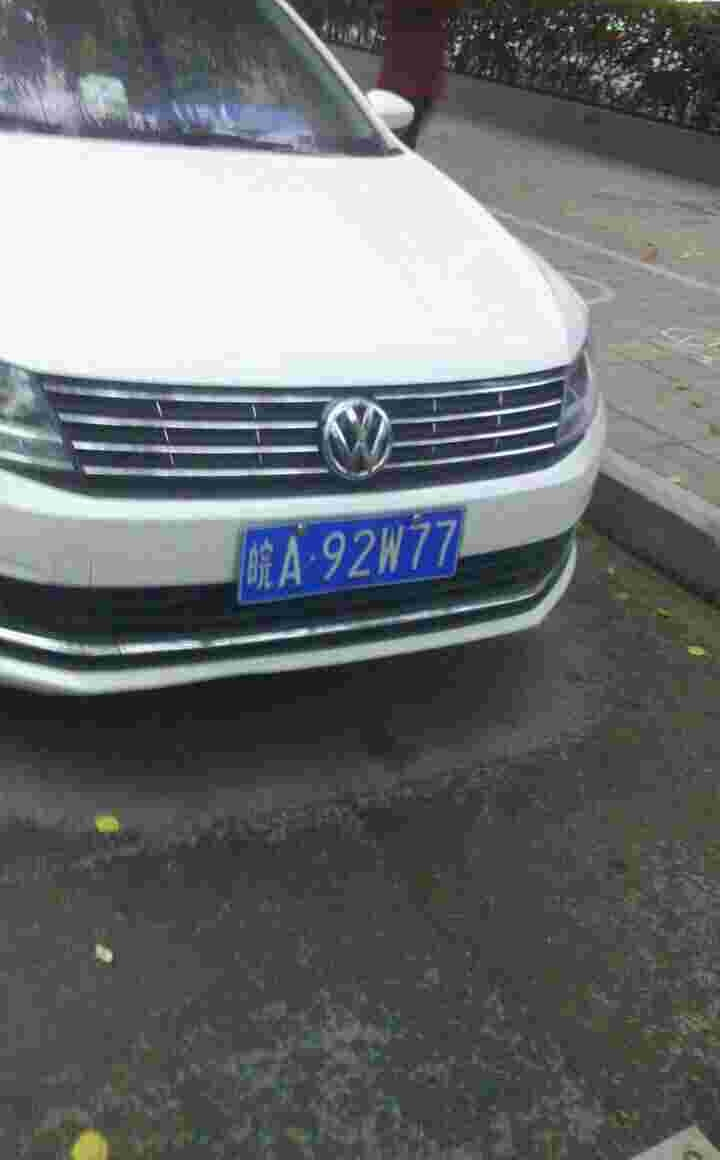license_plate: (234, 511, 456, 612)
